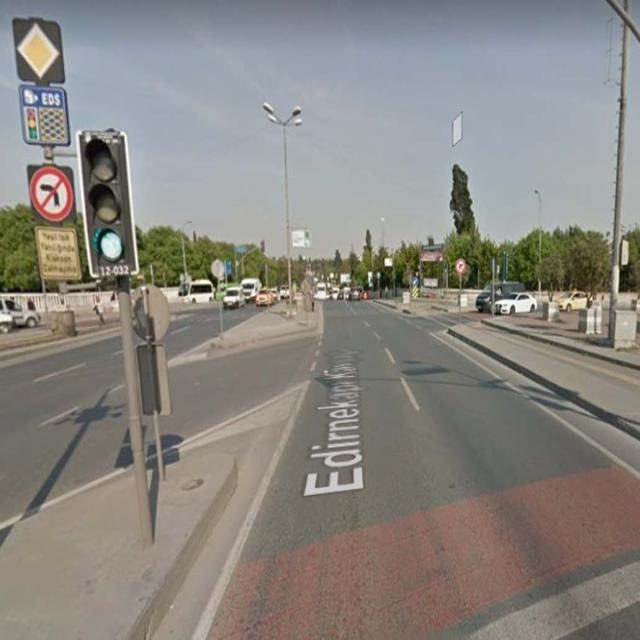sagadonulmez: (456, 258, 466, 274)
soladonulmez: (30, 167, 74, 222)
yesil: (76, 133, 136, 274)
